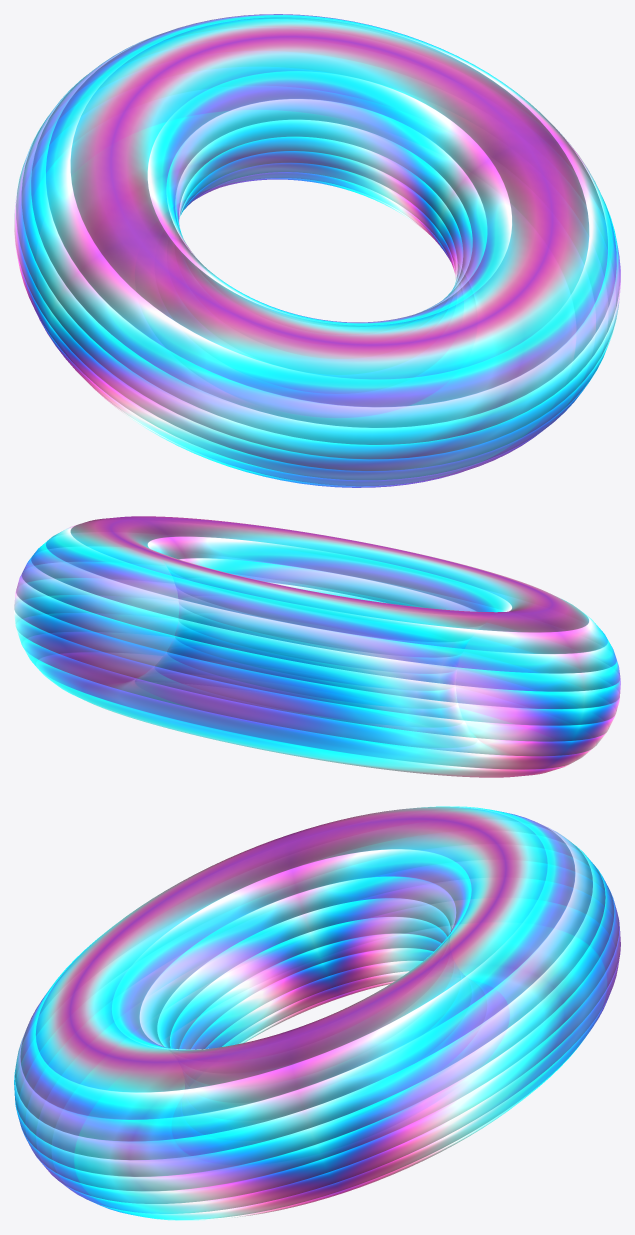
Rendered from HOLO_SYS_VISUALIZER.glb.
3 views of the same model, one above another, from view 1: azimuth 30°, elevation 25°; view 2: azimuth 150°, elevation 25°; view 3: azimuth 270°, elevation 25° (orthographic). The views are drawn at different scales.
Parts seen in each view (by area): view 1: HOLO_SYS_Visualizer_Mesh; view 2: HOLO_SYS_Visualizer_Mesh; view 3: HOLO_SYS_Visualizer_Mesh.
Boxes of the visible parts, x1,y1,x2,y2 form: HOLO_SYS_Visualizer_Mesh: (14,14,620,487); HOLO_SYS_Visualizer_Mesh: (14,516,620,777); HOLO_SYS_Visualizer_Mesh: (14,806,620,1220).
Size of the model in its own units: 1.78 by 0.9253 by 1.7.
1 material, 1 textured.
